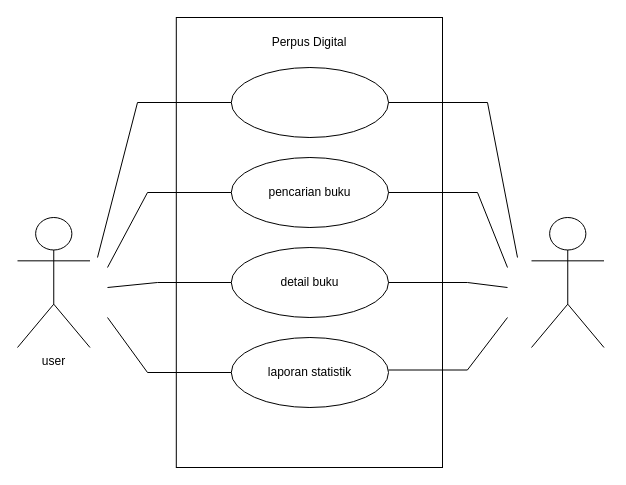
Some shapes in this 626 by 485 pixel diagram are drawn without their labels. The shapes that lost their labels are listed below. From the top down, each one's centre as x and y in pixels, then its label:
(309,102): form pengunjung
(567,282): perpustakawan
